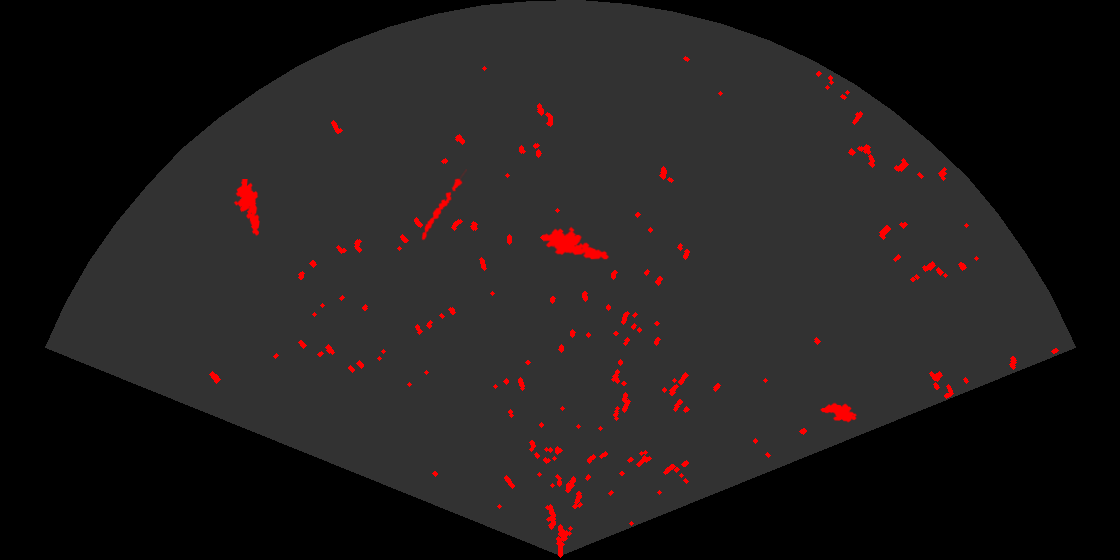AUV: (818, 401, 859, 424)
chain: (420, 169, 467, 242)
frogman: (543, 225, 610, 261), (232, 179, 261, 237)
